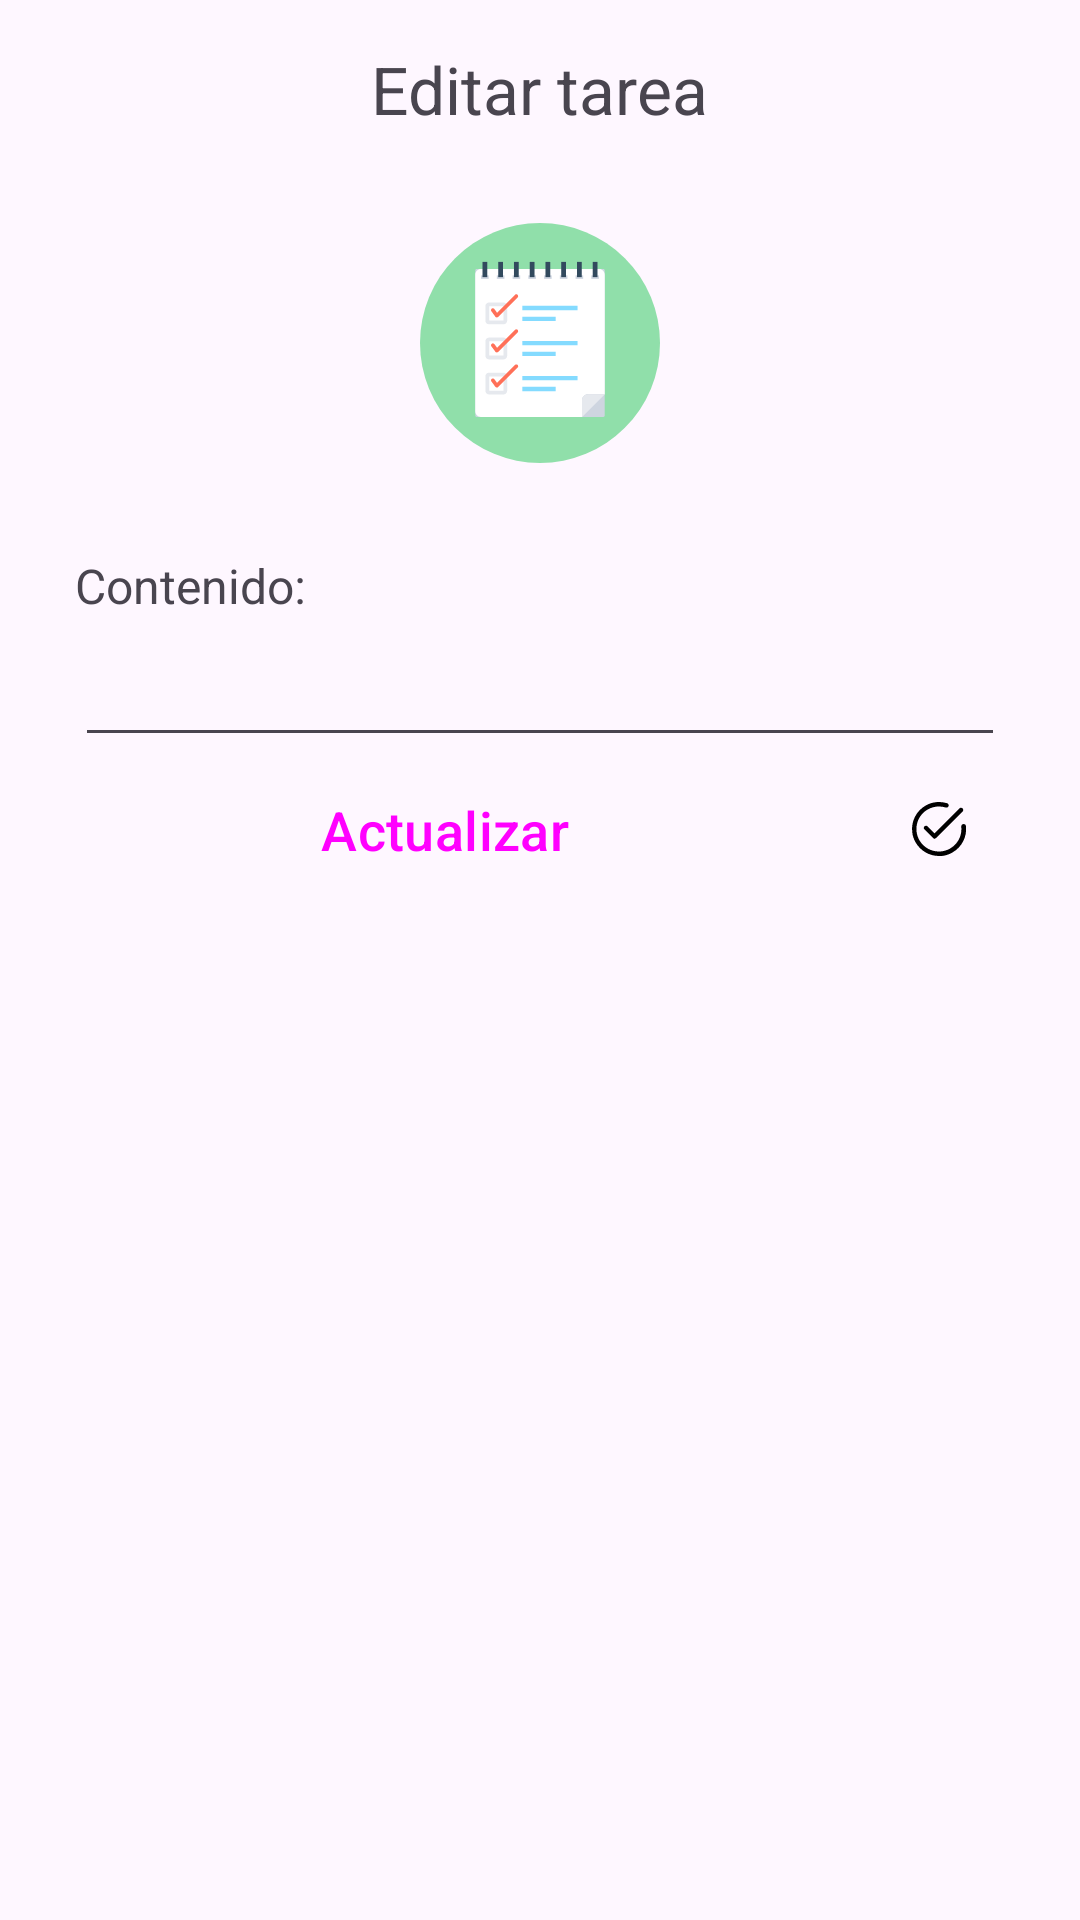

Icon click points for this 1080 x 1920 phone screenshot, format [x,y]:
check task: [939,829]
task view: [540,343]
